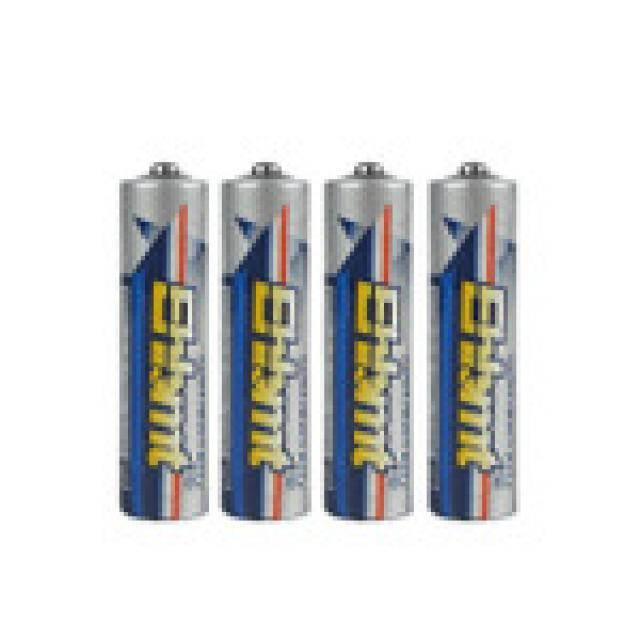hazardous waste: (110, 154, 212, 518), (423, 156, 522, 520), (220, 157, 314, 528), (324, 160, 415, 520)
